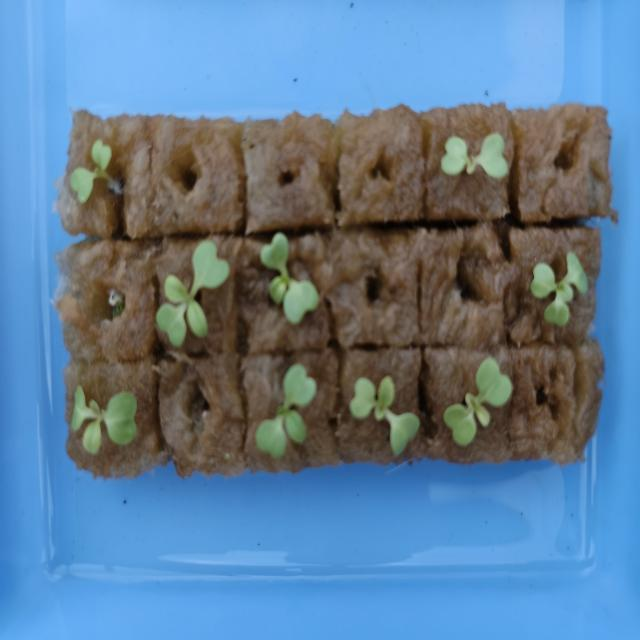daun-pakcoy: (190, 241, 230, 297), (476, 357, 512, 407), (104, 392, 137, 445), (470, 133, 508, 178), (283, 279, 319, 324), (282, 364, 317, 410), (389, 412, 420, 462), (443, 404, 476, 446), (255, 416, 287, 459), (156, 303, 187, 341), (260, 232, 288, 273), (349, 377, 376, 419), (65, 383, 87, 431), (563, 252, 588, 294), (441, 136, 467, 175), (530, 262, 556, 299), (70, 168, 96, 203), (465, 392, 490, 428), (268, 275, 297, 305), (186, 300, 208, 338), (92, 139, 112, 179), (164, 274, 190, 303), (544, 296, 569, 326), (378, 376, 395, 420), (285, 410, 306, 444), (83, 420, 101, 454), (554, 277, 573, 304)
